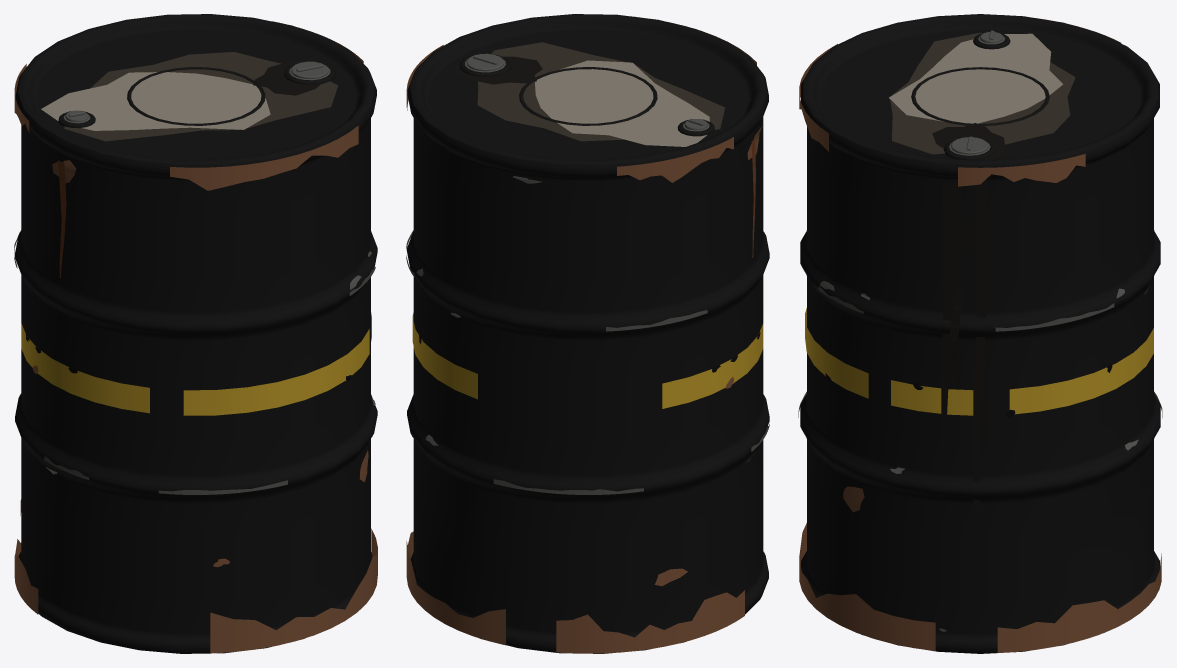
File: barrel@2.glb
3 renders of one model, left to right at view 1: azimuth 30°, elevation 25°; view 2: azimuth 150°, elevation 25°; view 3: azimuth 270°, elevation 25°, orthographic.
Visible parts, largest first — view 1: fass0, fass7, fass1, fass3, fass8, fass2, fass6, fass5; view 2: fass0, fass1, fass7, fass8, fass3, fass2, fass6; view 3: fass0, fass1, fass7, fass6, fass3, fass8, fass2.
Boxes of the visible parts, x1,y1,x2,y2 form: fass0: (15, 14, 377, 653); fass7: (41, 72, 270, 130); fass1: (14, 21, 377, 653); fass3: (21, 312, 371, 415); fass8: (64, 52, 338, 141); fass2: (14, 61, 375, 494); fass6: (253, 59, 325, 95); fass5: (58, 160, 66, 278); fass0: (407, 14, 769, 653); fass1: (406, 16, 762, 653); fass7: (535, 60, 709, 146); fass8: (477, 42, 724, 141); fass3: (412, 312, 763, 408); fass2: (406, 53, 769, 494); fass6: (455, 56, 542, 84); fass0: (800, 14, 1160, 653); fass1: (799, 15, 1161, 652); fass7: (889, 33, 1063, 123); fass6: (932, 123, 1005, 508); fass3: (805, 308, 1153, 415); fass8: (890, 32, 1075, 154); fass2: (798, 30, 1162, 631).
Bounding box in the file's own units: 0.5937 × 0.888 × 0.5951.
